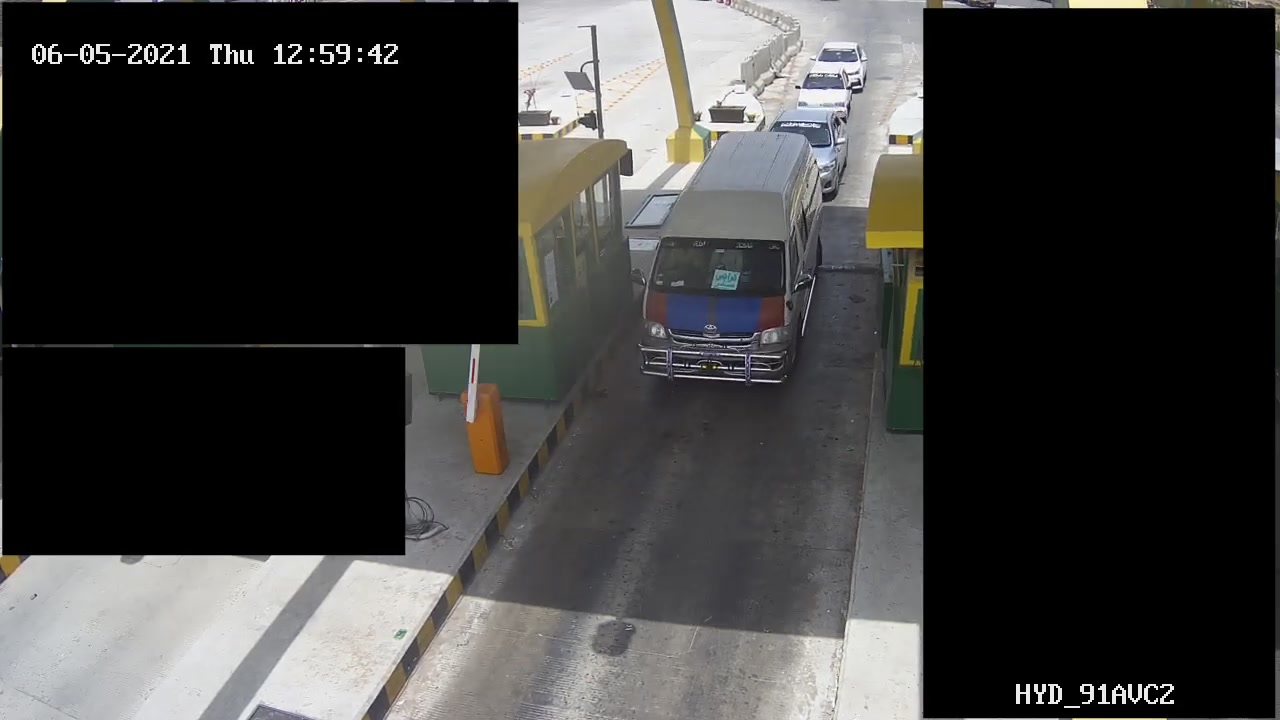F2: (633, 124, 825, 391)
